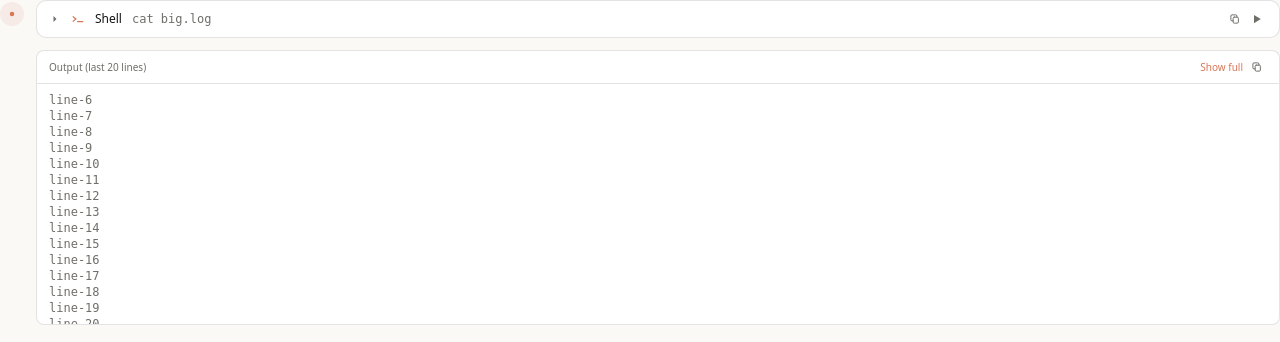
Test: MessageBubble - assistant messages › renders Bash tool_result with last 20 lines and supports full output toggle
This screenshot has width=1280, height=342.
Expected: the text "Output (last 20 lines)" is shown, [49,60,146,74]
Click the button "Show full" at (1222, 67), box [1200,60,1243,74]
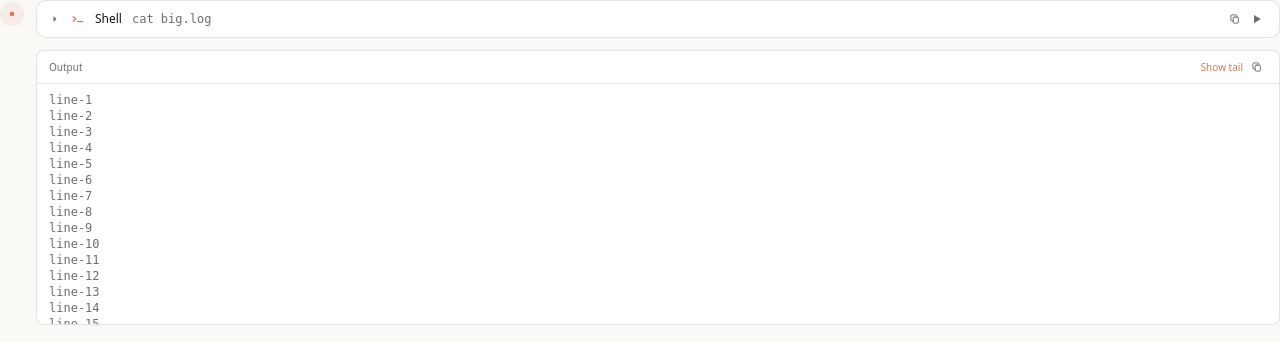
Expected: the button "Show tail" is shown, [1201,60,1243,74]
